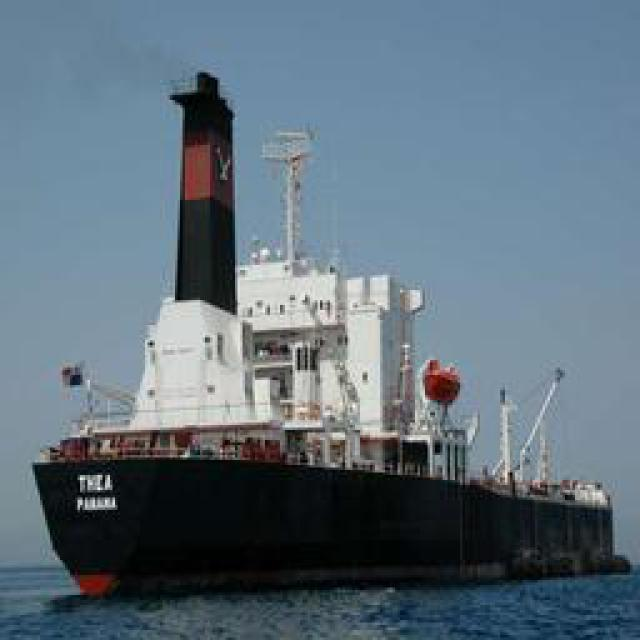Ship: (30, 84, 623, 599)
